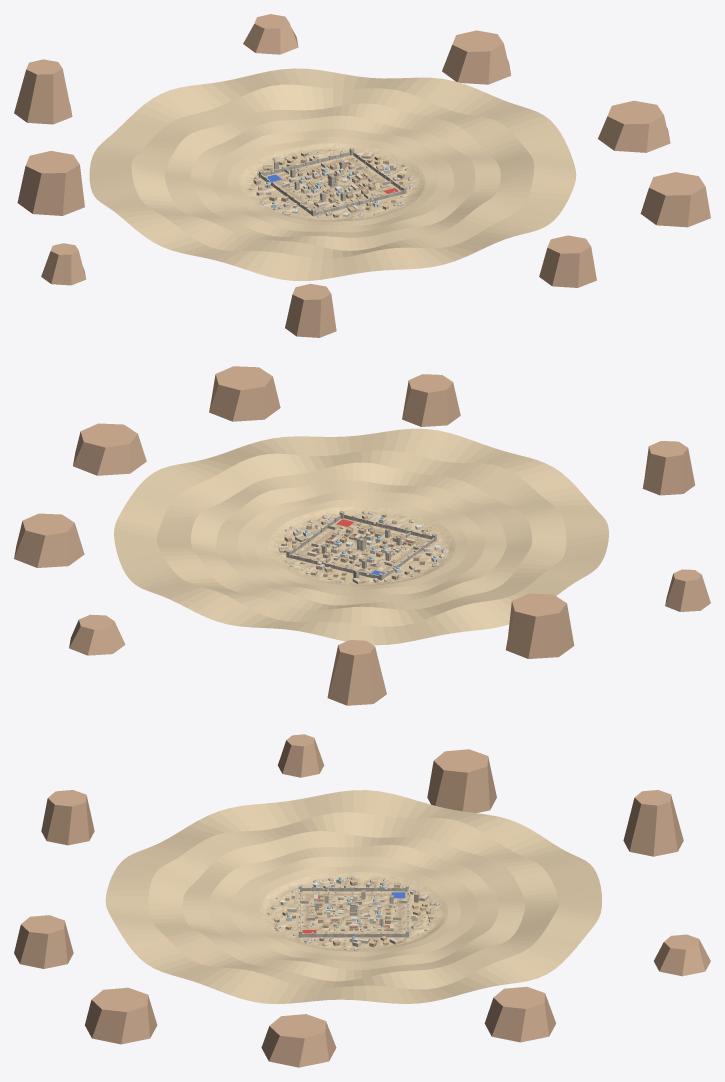
Rendered from deserto.glb.
The picture shows the model from 3 angles, top to bottom: view 1: azimuth 30°, elevation 25°; view 2: azimuth 150°, elevation 25°; view 3: azimuth 270°, elevation 25°; orthographic projection. The views are drawn at different scales.
Visible parts, largest first — view 1: dune, mesas, terreno_fuori, terreno, mura, massi; view 2: dune, mesas, terreno_fuori, terreno, mura, massi; view 3: dune, mesas, terreno_fuori, terreno, mura, massi.
Part boxes in pixels (x1,y1,x2,y2): dune: (89, 68, 576, 280); mesas: (14, 14, 710, 337); terreno_fuori: (238, 142, 427, 221); terreno: (264, 155, 401, 211); mura: (258, 147, 406, 215); massi: (249, 149, 416, 219); dune: (114, 428, 608, 645); mesas: (14, 366, 710, 705); terreno_fuori: (265, 505, 457, 586); terreno: (292, 518, 430, 574); mura: (286, 511, 436, 580); massi: (284, 510, 448, 583); dune: (105, 790, 602, 1004); mesas: (14, 734, 710, 1067); terreno_fuori: (259, 871, 447, 951); terreno: (300, 891, 408, 937); mura: (298, 885, 409, 937); massi: (267, 876, 439, 950).
Size of the model in its own units: 854 by 63.18 by 814.
